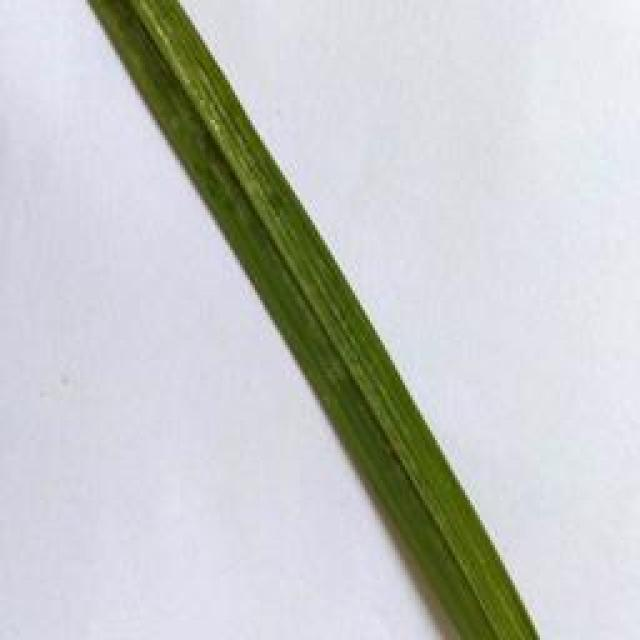Healthy-Plant: (83, 0, 540, 640)
